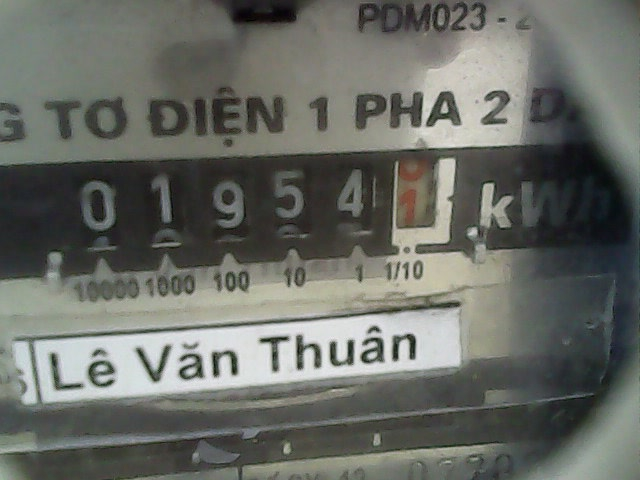phy_plate: (56, 148, 470, 264)
